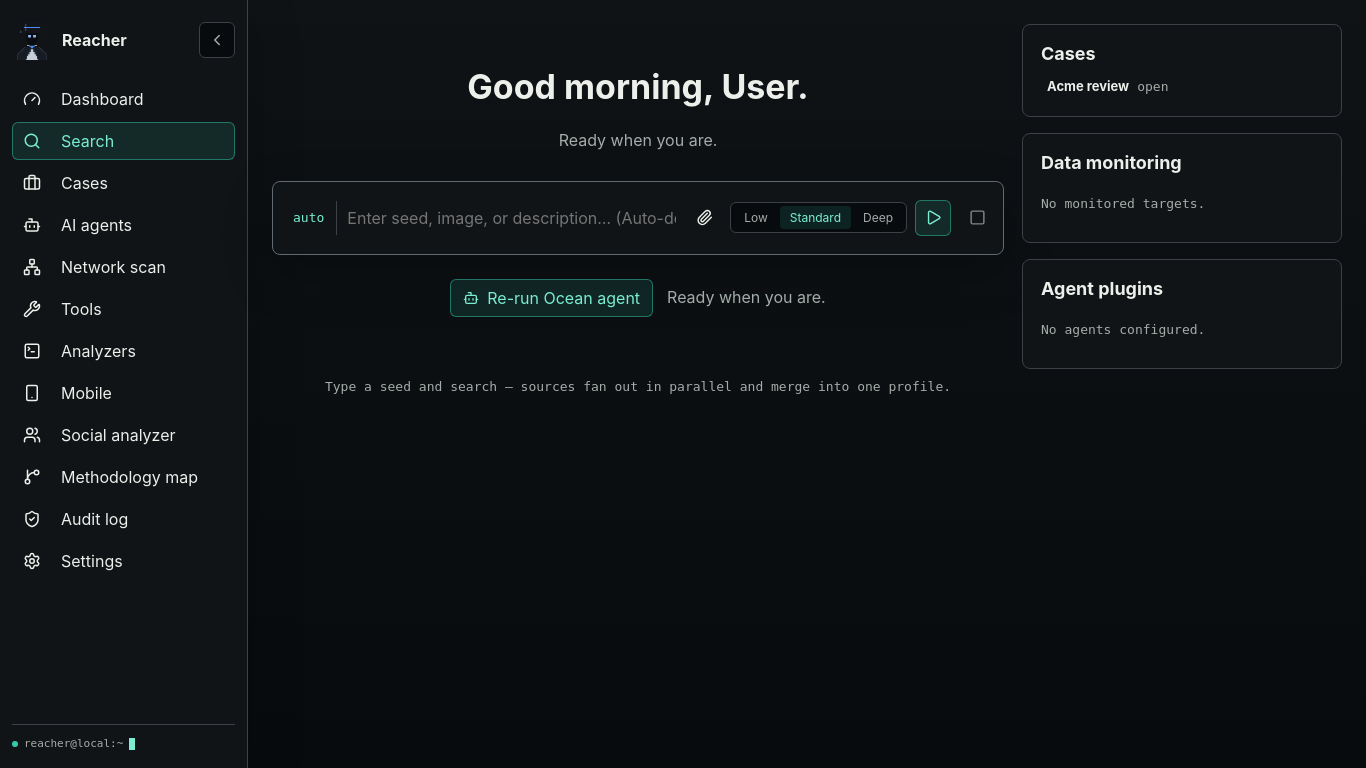
Test case: search route sends a selected tree node to an agent so discoveries can continue in the agent hub
The image size is (1366, 768).
Type "example.com" into the field labelled "seed" at (512, 218), box [345, 197, 678, 239]
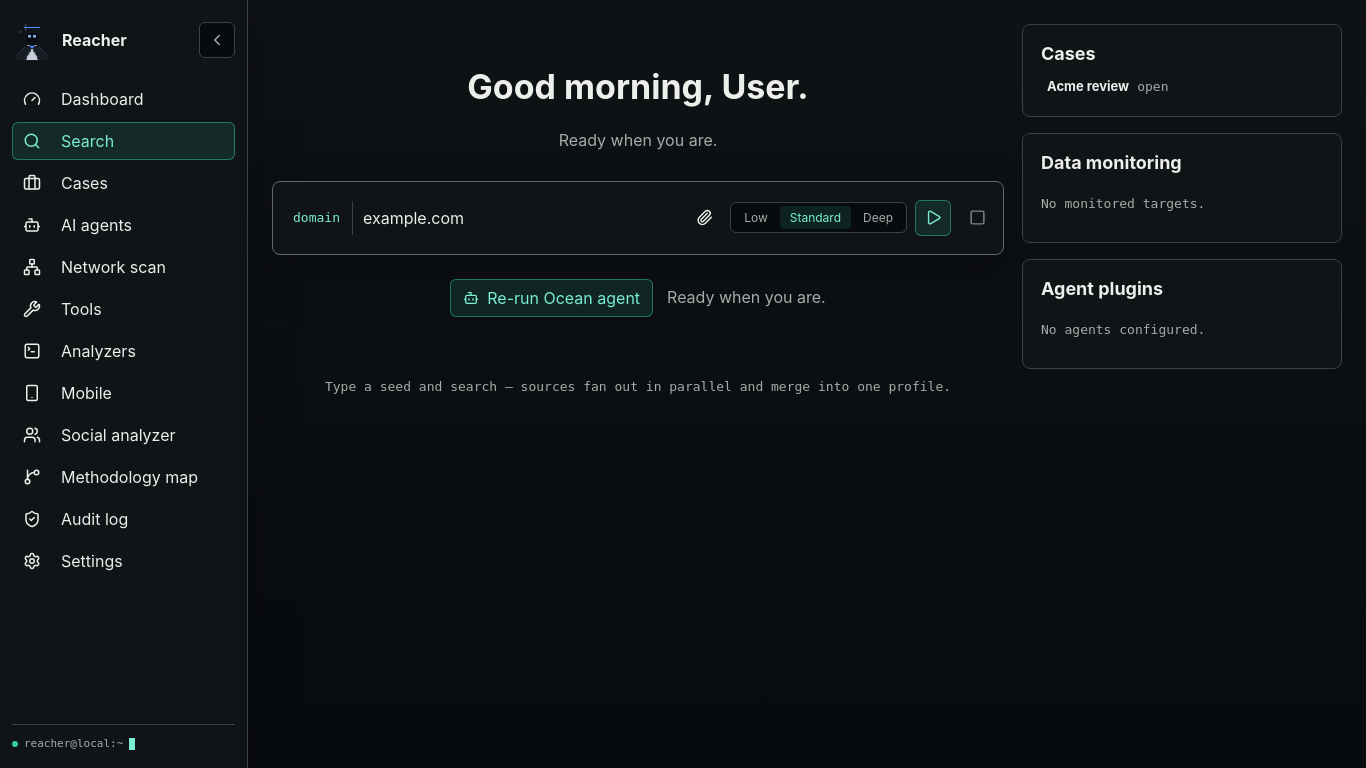
Click the button named "Search" at (933, 218), box [915, 200, 951, 236]
(page scrolled)
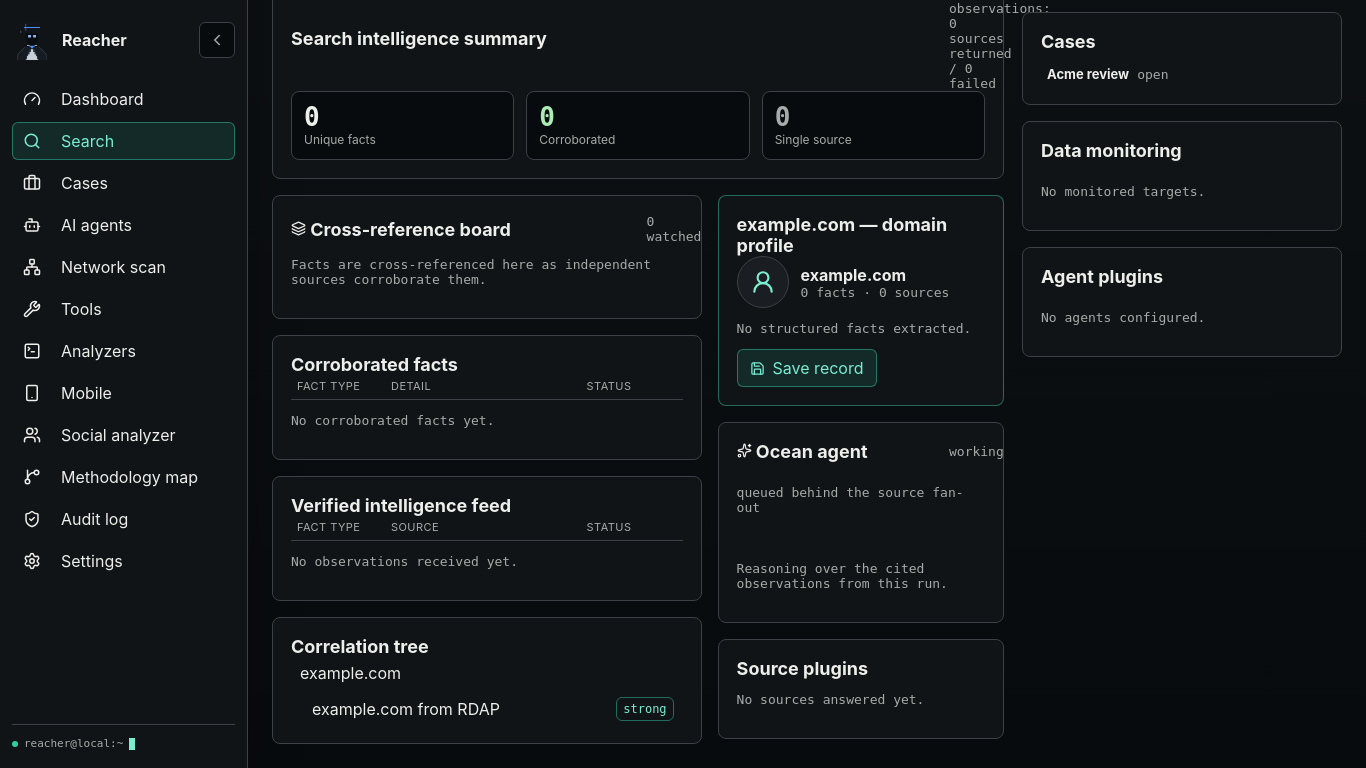
Click the button "example.com from RDAP strong" at (493, 709), box [303, 693, 683, 725]
(page scrolled)
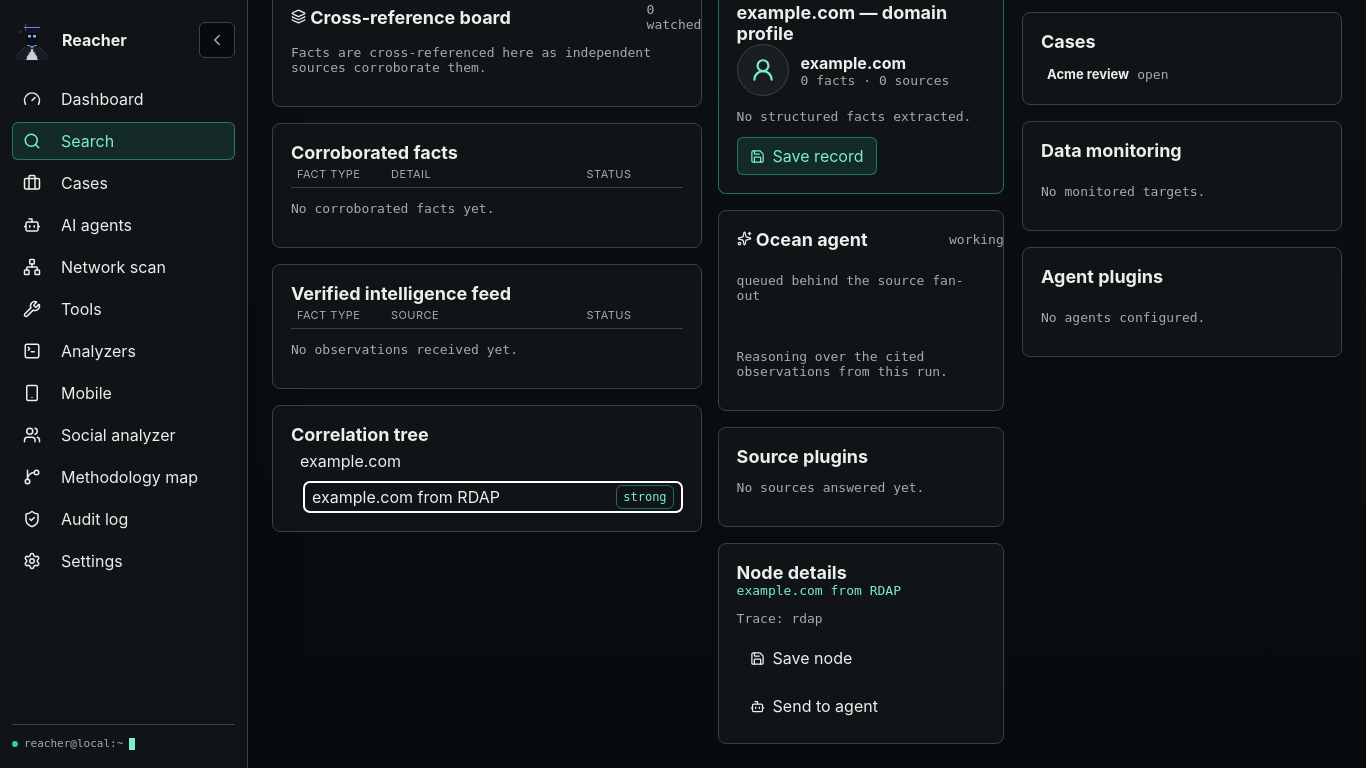
Click the button "Send to agent" at (814, 706), box [737, 687, 891, 725]
(page scrolled)
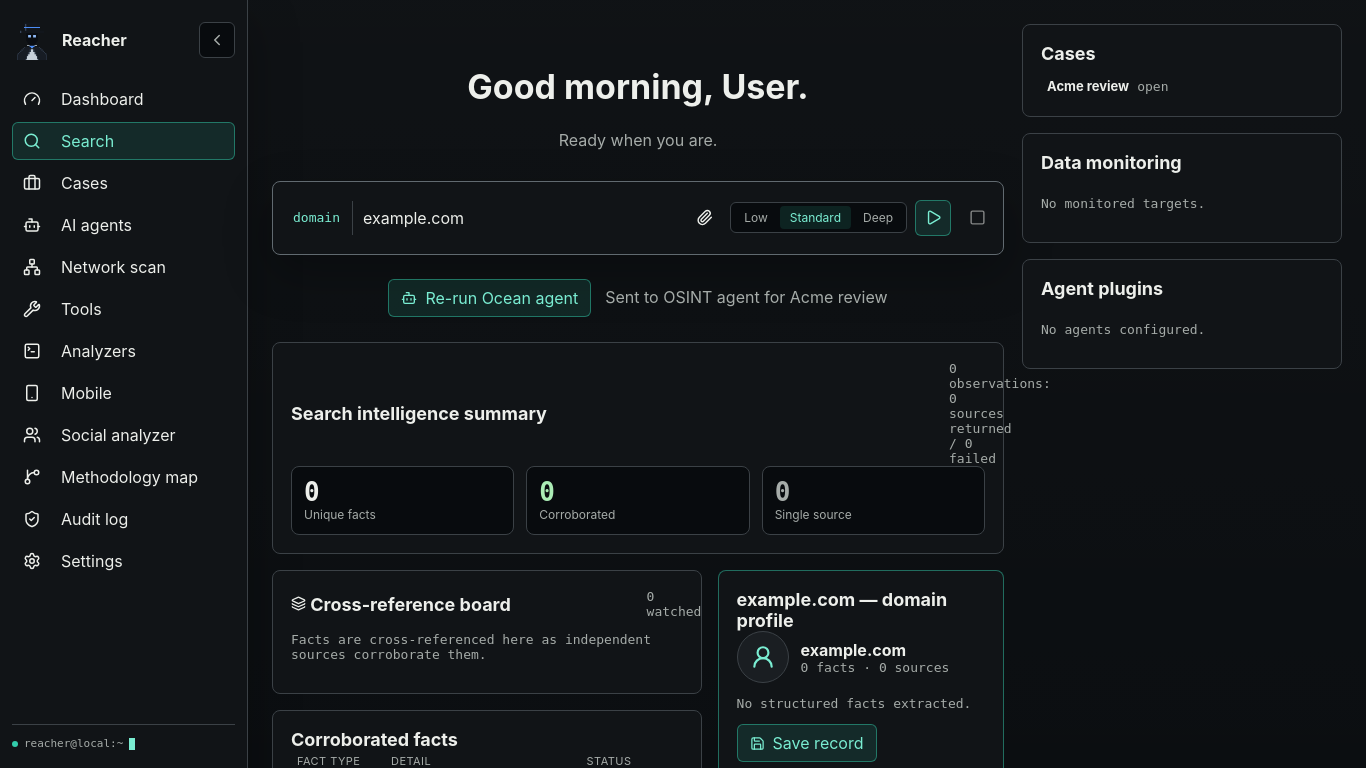
Result: the text "Sent to OSINT agent for Acme review" is shown at [605, 285, 888, 310]
